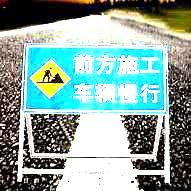sign: (24, 44, 166, 112)
